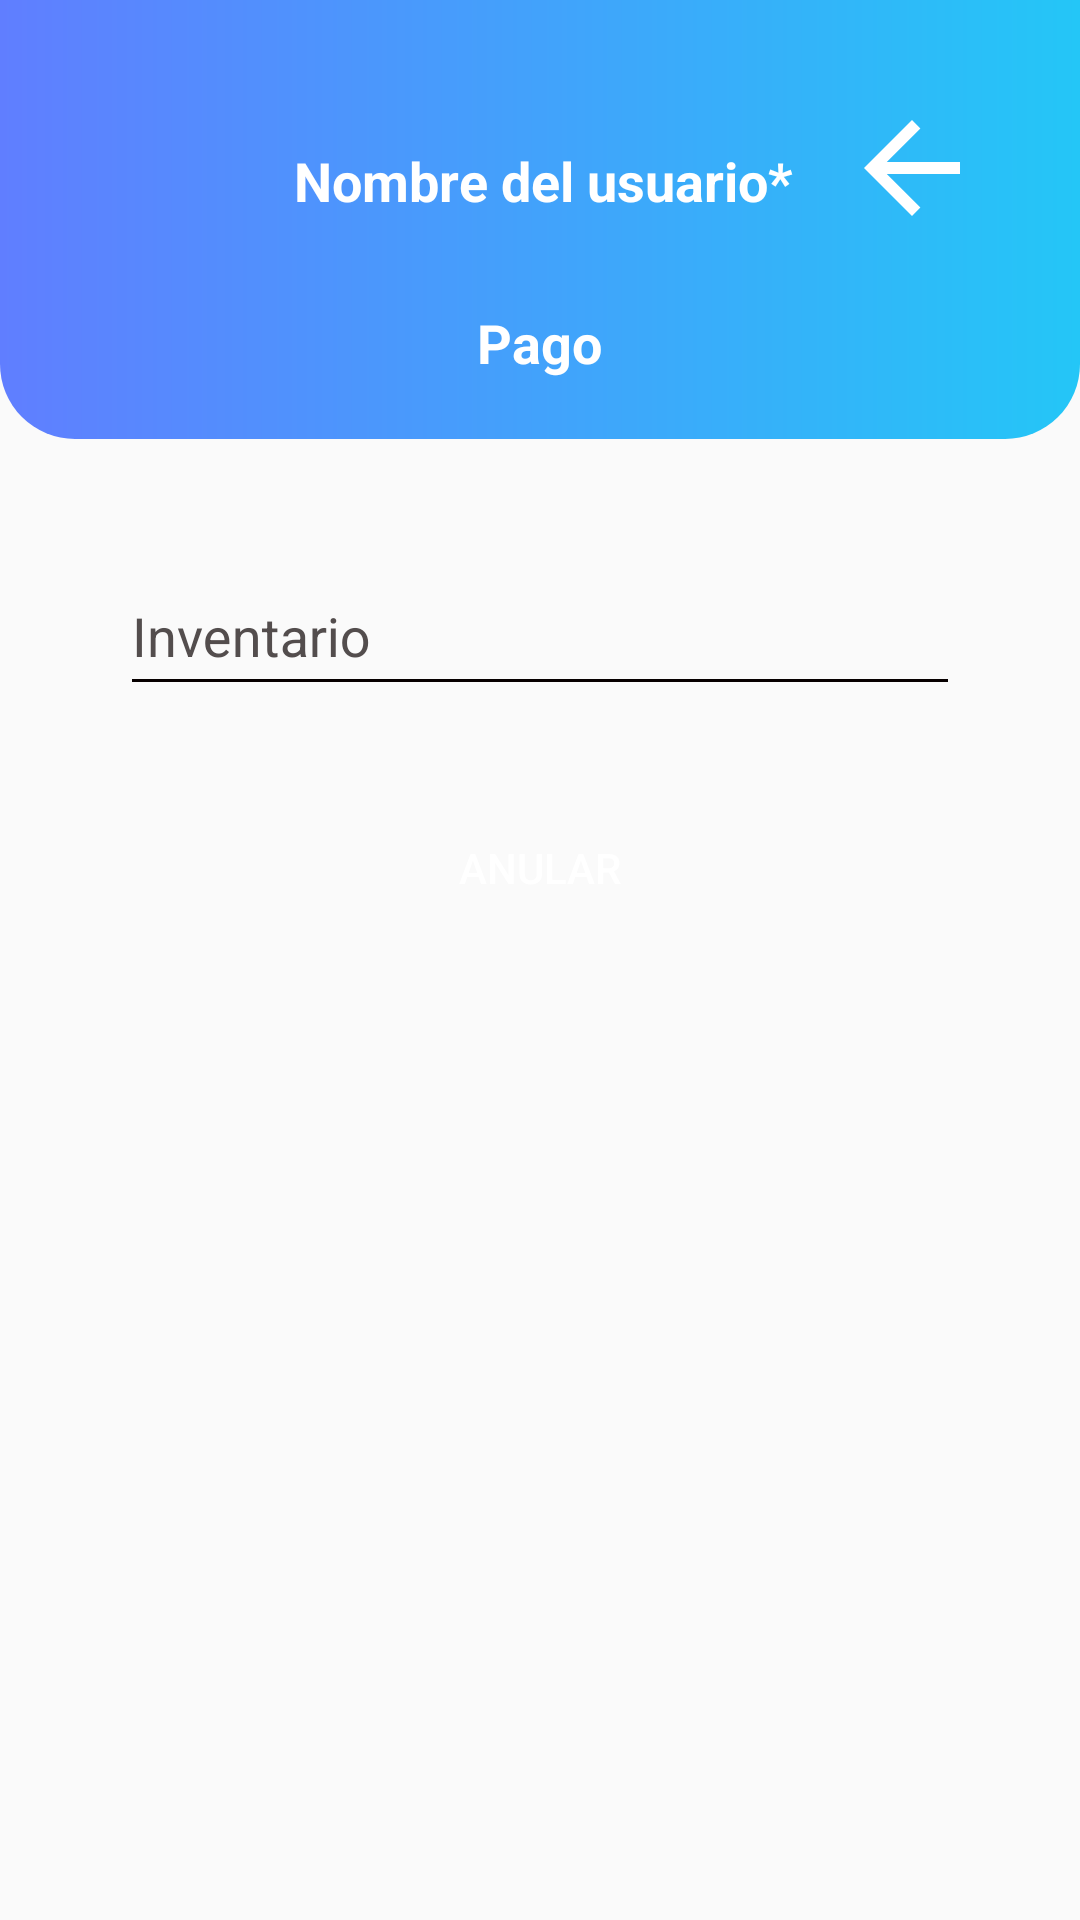

Screen size 1080 × 1920. Icon name, then its center in pixels as (x,y):
Boton que al presionar cuelve a la pantalla anterior: (912,168)
